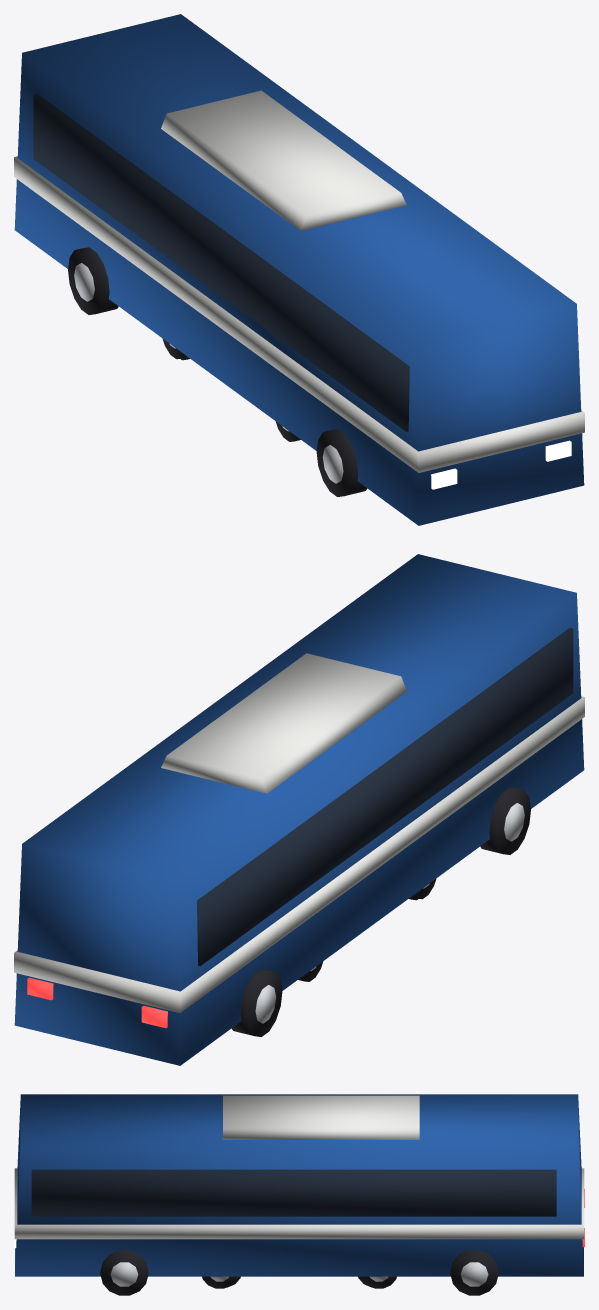
File: actors.glb
3 renders of one model, top to bottom at view 1: azimuth 30°, elevation 25°; view 2: azimuth 150°, elevation 25°; view 3: azimuth 270°, elevation 25°, orthographic. The views are drawn at different scales.
Visible parts, largest first — view 1: Actor_Bus; view 2: Actor_Bus; view 3: Actor_Bus, Actor_SUV.
Boxes of the visible parts, x1,y1,x2,y2 form: Actor_Bus: (14,14,584,525); Actor_Bus: (14,554,584,1065); Actor_Bus: (14,1094,584,1295); Actor_SUV: (202,1276,396,1288).
Size of the model in its own units: 2.71 by 3.09 by 10.44.
